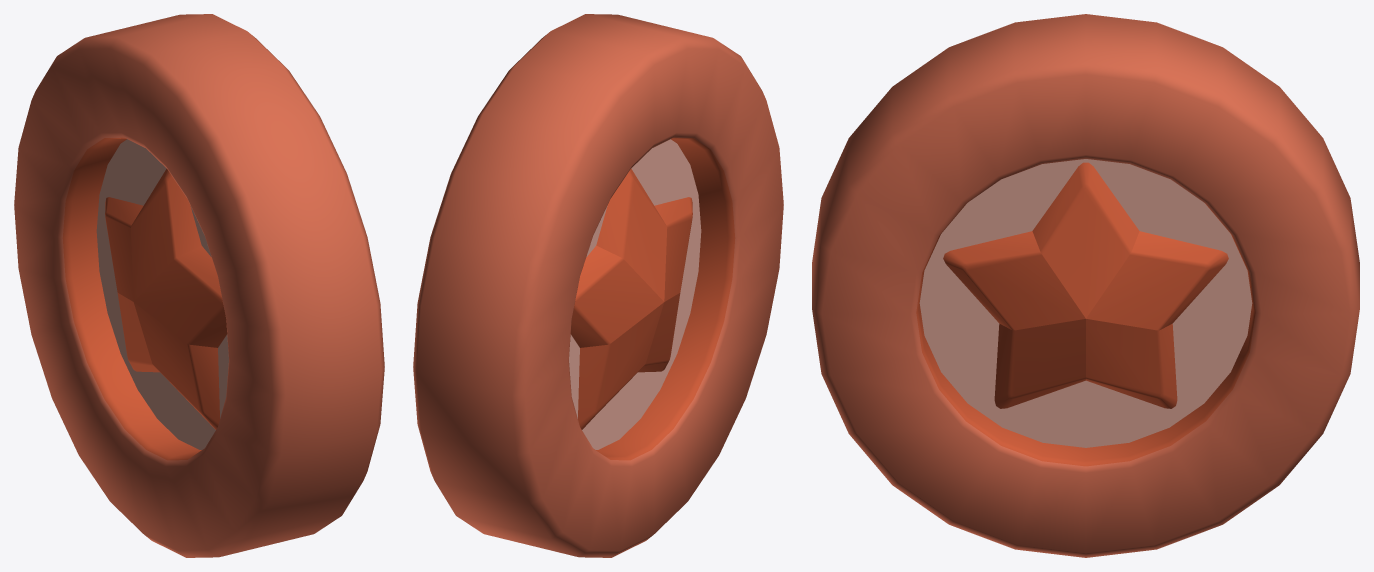
File: Coin_V1_02.fbx
3 views of the same model, side by side, from view 1: azimuth 30°, elevation 25°; view 2: azimuth 150°, elevation 25°; view 3: azimuth 270°, elevation 25° (orthographic). The views are drawn at different scales.
Parts seen in each view (by area): view 1: Coin_V1_02; view 2: Coin_V1_02; view 3: Coin_V1_02.
Part boxes in pixels (x1,y1,x2,y2): Coin_V1_02: [14, 14, 384, 557]; Coin_V1_02: [413, 14, 783, 557]; Coin_V1_02: [812, 14, 1359, 557].
Size of the model in its own units: 12.19 by 43 by 43.
